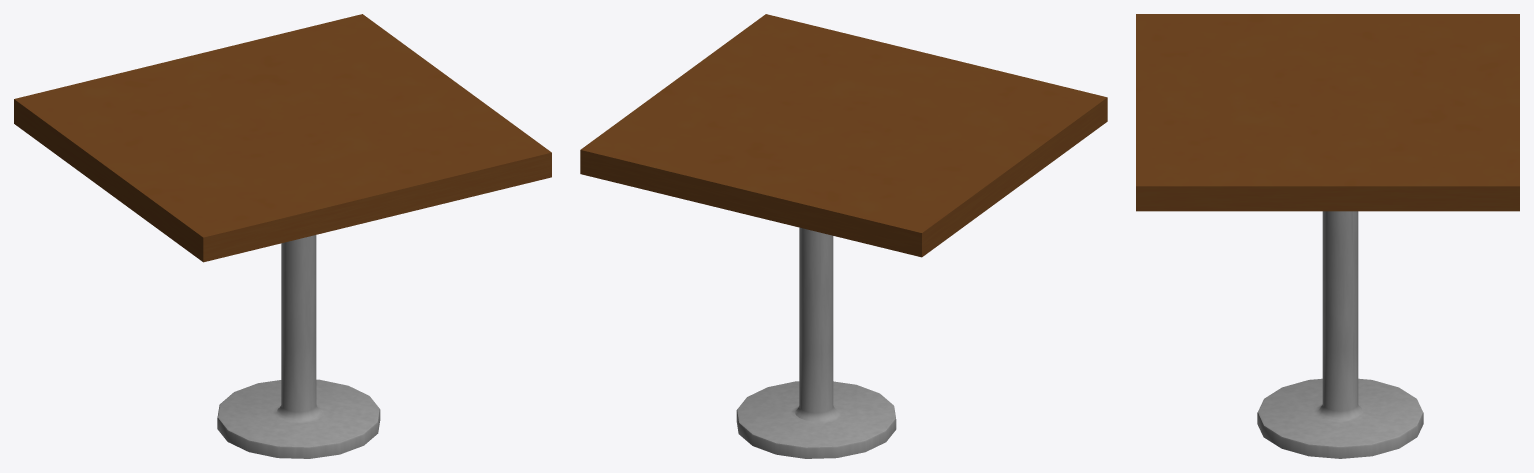
The model's file is faxTable.glb.
The picture shows the model from 3 angles, left to right: view 1: azimuth 30°, elevation 25°; view 2: azimuth 150°, elevation 25°; view 3: azimuth 270°, elevation 25°; orthographic projection. The views are drawn at different scales.
Parts seen in each view (by area): view 1: desk-top.001, desk-legs.004; view 2: desk-top.001, desk-legs.004; view 3: desk-top.001, desk-legs.004.
Part boxes in pixels (<box>): desk-top.001: <box>14,14,551,262</box>; desk-legs.004: <box>217,235,380,458</box>; desk-top.001: <box>580,14,1107,257</box>; desk-legs.004: <box>736,227,896,458</box>; desk-top.001: <box>1136,14,1519,211</box>; desk-legs.004: <box>1257,211,1423,458</box>.
Size of the model in its own units: 1.22 by 1.03 by 1.15.
2 materials, 2 textured.
